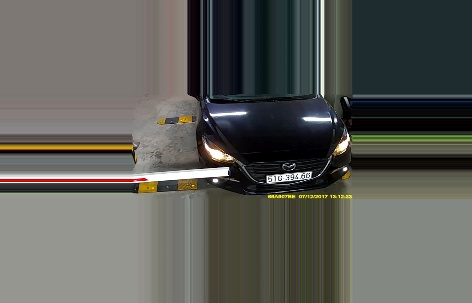plate: (263, 169, 313, 182)
